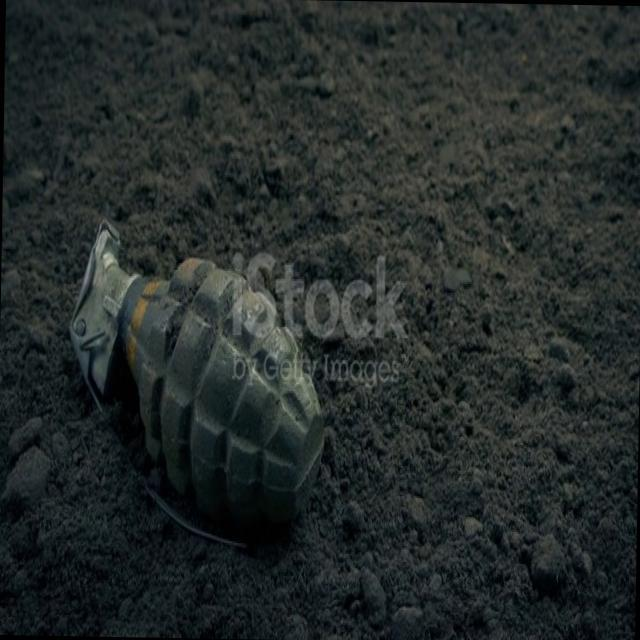grenade: (62, 218, 336, 564)
